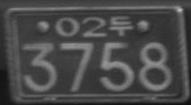0: (54, 16, 80, 37)
2: (81, 15, 107, 37)
3: (20, 41, 57, 92)
5: (100, 40, 134, 93)
7: (59, 41, 93, 92)
8: (137, 41, 173, 92)
두: (108, 14, 134, 37)
